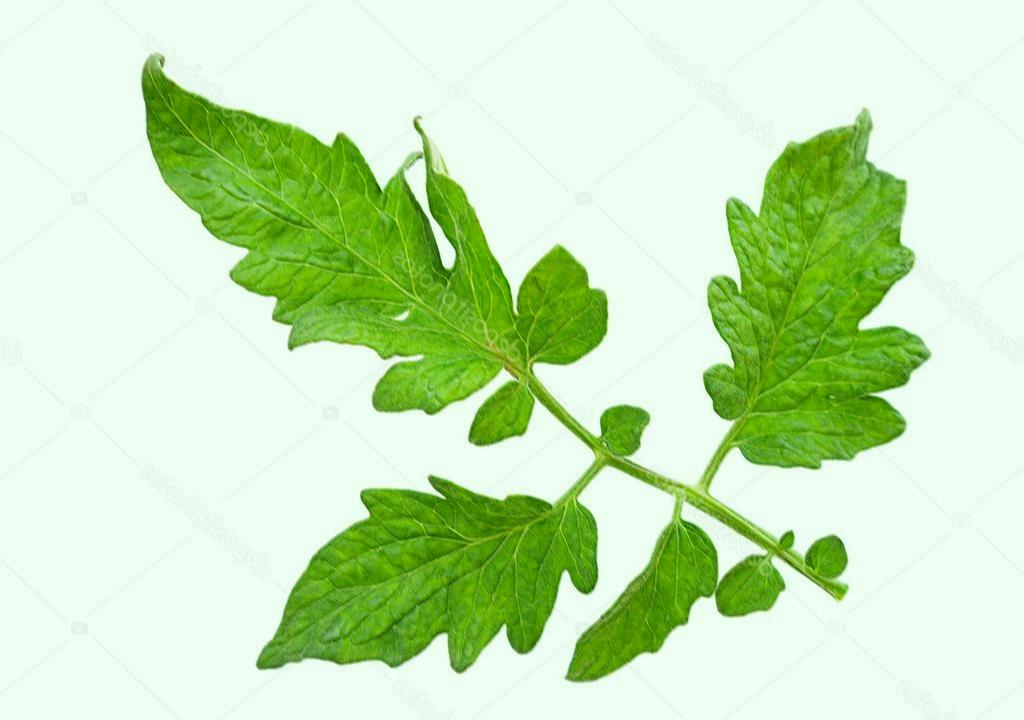Tomato leaf: (101, 58, 643, 435), (684, 108, 948, 465), (211, 488, 602, 682), (561, 500, 724, 692)
